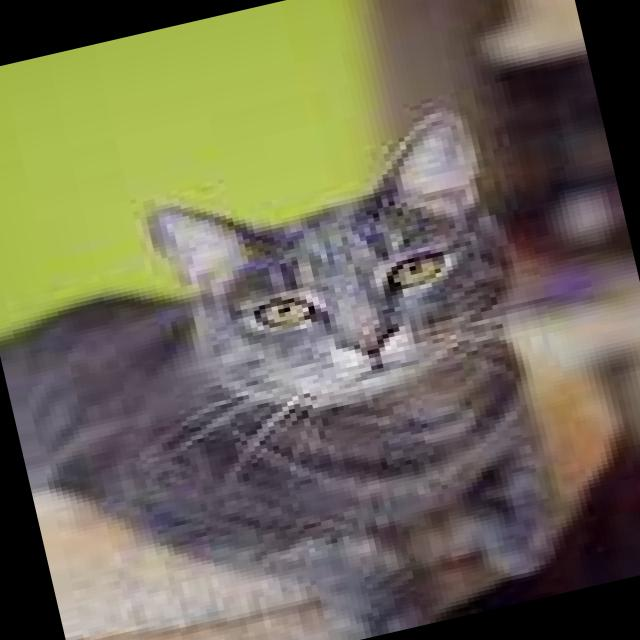animal: (0, 102, 576, 640)
